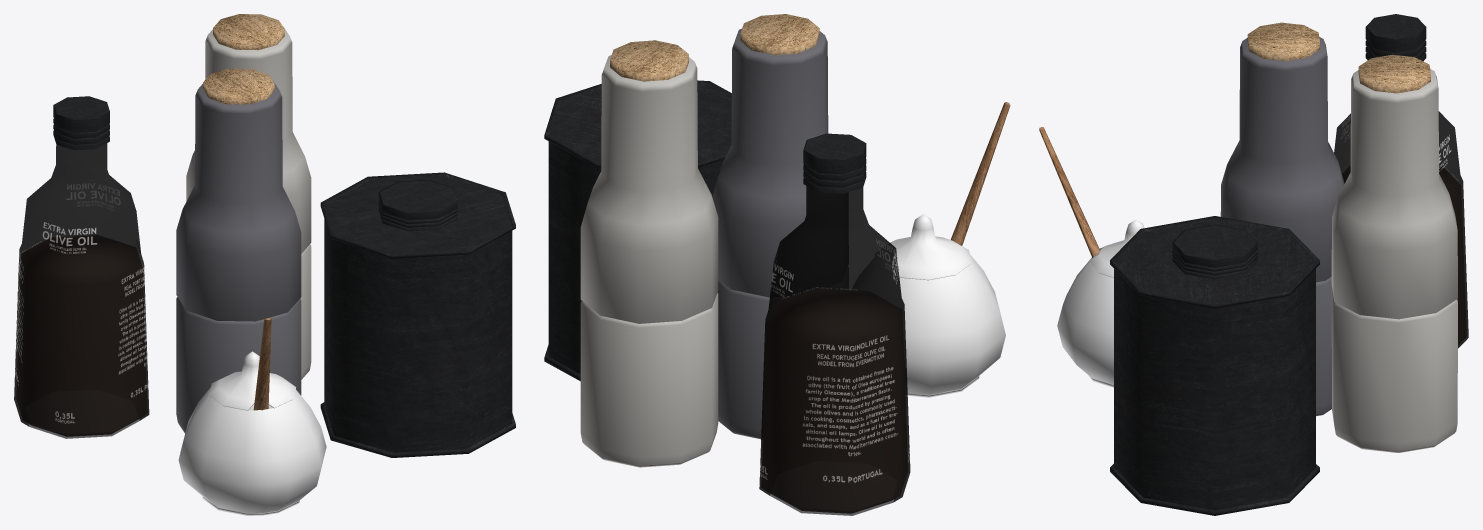
Rendered from BottleSet.fbx.
3 views of the same model, side by side, from view 1: azimuth 30°, elevation 25°; view 2: azimuth 150°, elevation 25°; view 3: azimuth 270°, elevation 25° (orthographic). The views are drawn at different scales.
Visible parts, largest first — view 1: Can, BOil, BG, SmallBowl, BW; view 2: BW, BOil, BG, SmallBowl, Can; view 3: Can, BW, BG, SmallBowl, BOil.
Boxes of the visible parts, x1,y1,x2,y2 form: Can: (320, 172, 515, 457); BOil: (14, 96, 149, 438); BG: (176, 68, 301, 433); SmallBowl: (178, 318, 326, 515); BW: (186, 14, 311, 379); BW: (580, 40, 718, 467); BOil: (759, 133, 910, 515); BG: (712, 14, 828, 439); SmallBowl: (890, 102, 1010, 397); Can: (544, 80, 731, 381); Can: (1110, 216, 1319, 515); BW: (1331, 54, 1457, 452); BG: (1220, 22, 1344, 416); SmallBowl: (1039, 127, 1144, 387); BOil: (1334, 14, 1468, 348).
Size of the model in its own units: 31.09 by 25.94 by 27.96.
